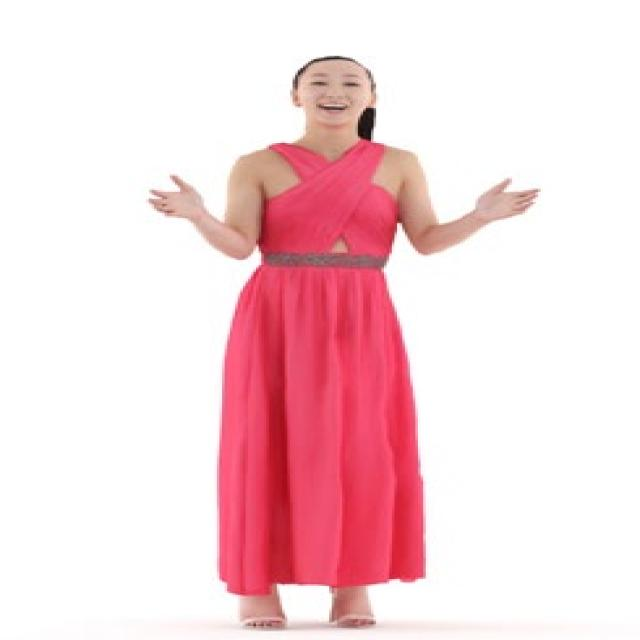standing: (142, 55, 554, 631)
